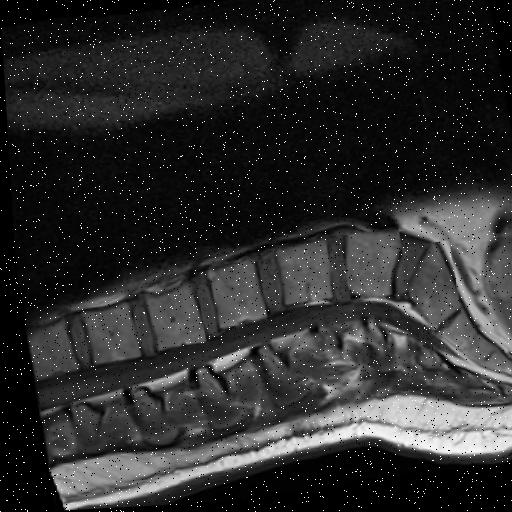L1: (78, 302, 136, 364)
L2: (141, 285, 202, 350)
L3: (207, 261, 263, 329)
L4: (272, 241, 331, 307)
L5: (342, 232, 398, 300)
S1: (403, 246, 456, 334)
